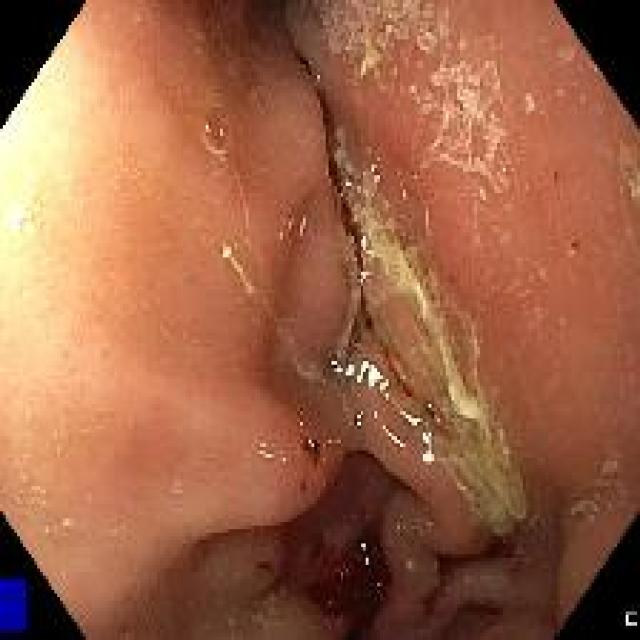blood: (311, 84, 378, 346), (285, 493, 384, 620), (420, 521, 524, 628), (278, 7, 315, 74), (300, 433, 322, 458), (253, 559, 273, 576), (295, 477, 310, 493)
bubbles: (201, 104, 234, 153), (280, 201, 310, 248)
color misalignment: (0, 575, 27, 635)
contrast: (195, 459, 636, 632), (187, 4, 344, 75)
saturation: (0, 22, 123, 411)
specularity: (355, 357, 393, 403), (397, 405, 423, 431), (381, 426, 406, 452), (418, 448, 436, 470), (328, 354, 343, 379), (356, 265, 371, 290), (358, 232, 371, 258), (369, 159, 381, 183), (353, 406, 364, 429), (345, 359, 355, 384), (342, 177, 355, 194), (420, 431, 435, 445), (362, 553, 372, 566), (358, 540, 367, 553)
